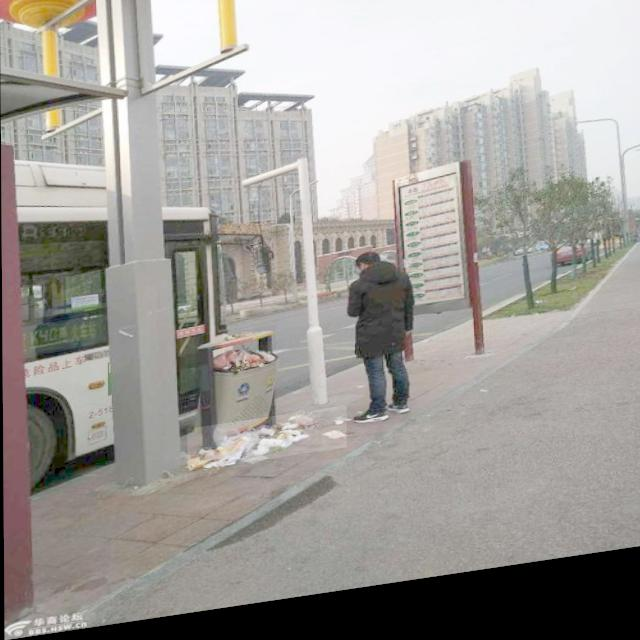garbage: (187, 416, 346, 476)
overflow: (194, 333, 276, 455)
